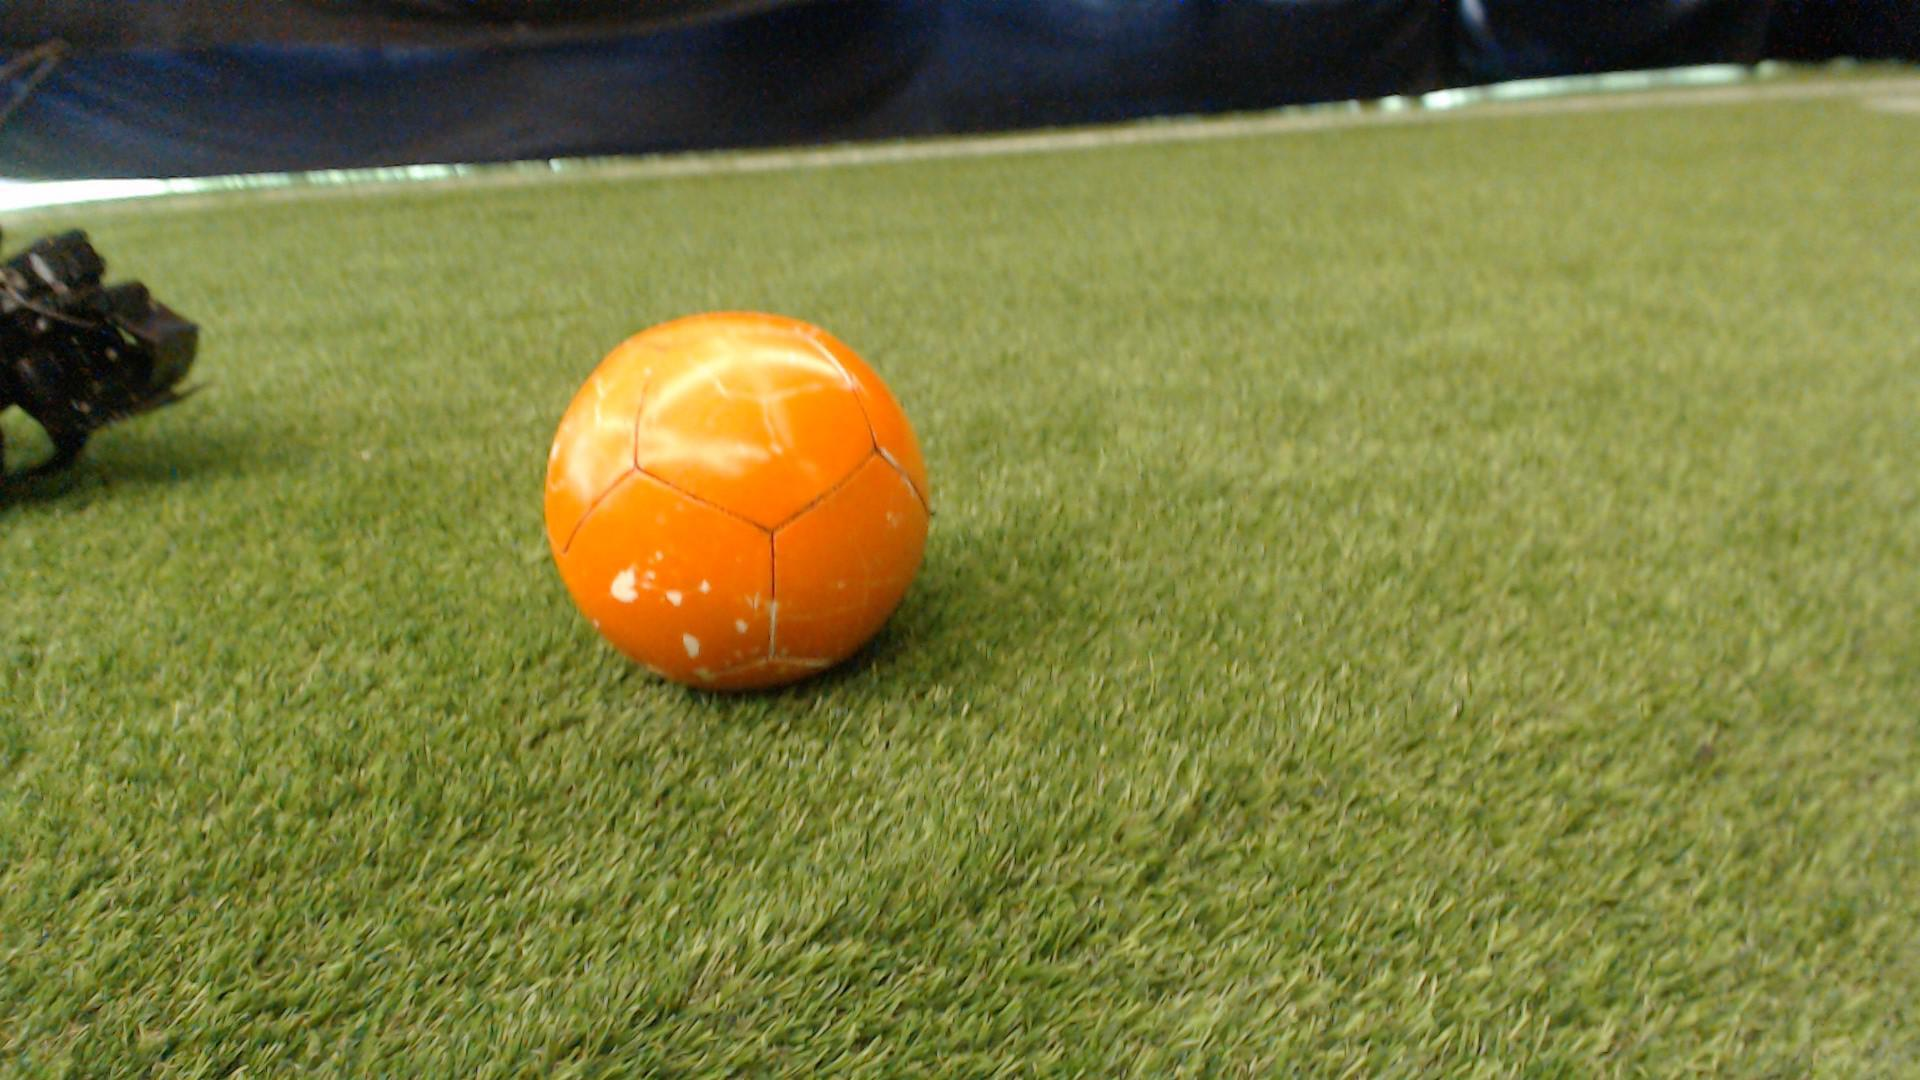bola: (521, 306, 965, 724)
